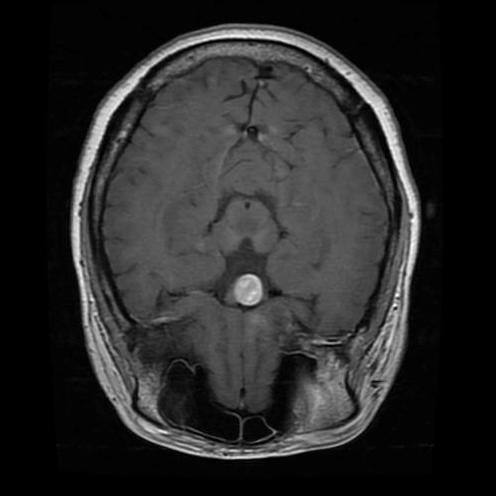Tumour-Pituitary: (235, 273, 266, 308)
